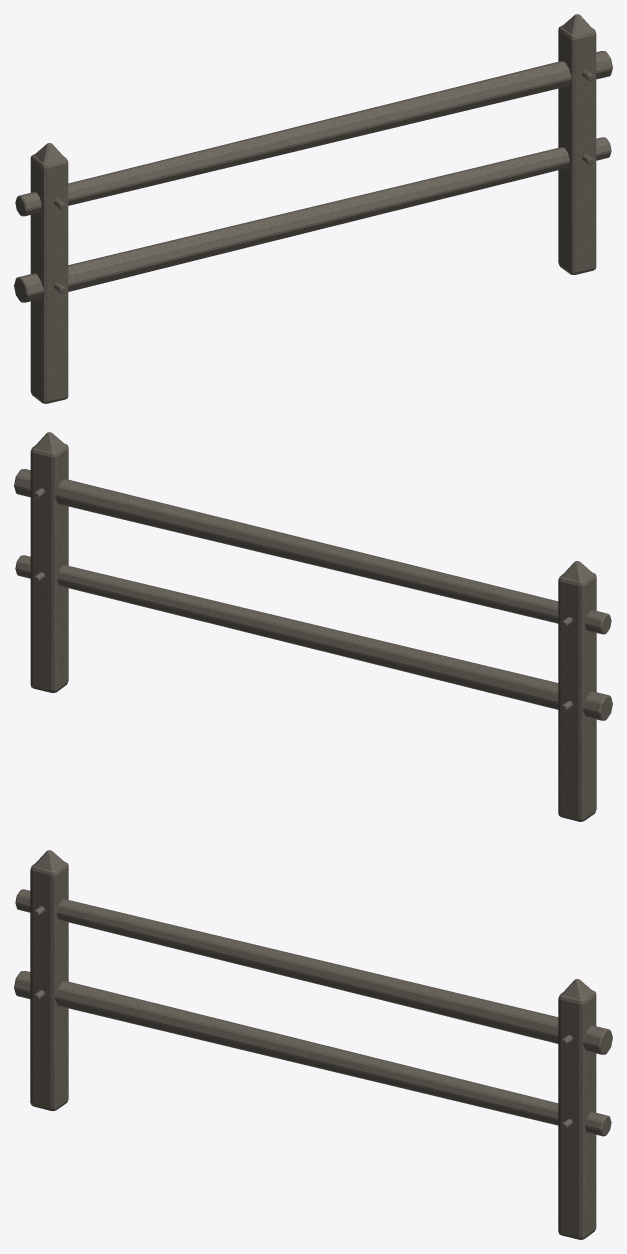
The model's file is prop-fence-section.glb.
3 renders of one model, top to bottom at view 1: azimuth 30°, elevation 25°; view 2: azimuth 150°, elevation 25°; view 3: azimuth 330°, elevation 25°, orthographic.
Visible parts, largest first — view 1: FenceSection; view 2: FenceSection; view 3: FenceSection.
Boxes of the visible parts, bbox=[...] form: FenceSection: bbox=[14, 14, 612, 403]; FenceSection: bbox=[14, 432, 612, 821]; FenceSection: bbox=[14, 850, 612, 1239].
Bounding box in the file's own units: 3 × 1.25 × 0.24.
Materials: 1 (1 with a texture image).
